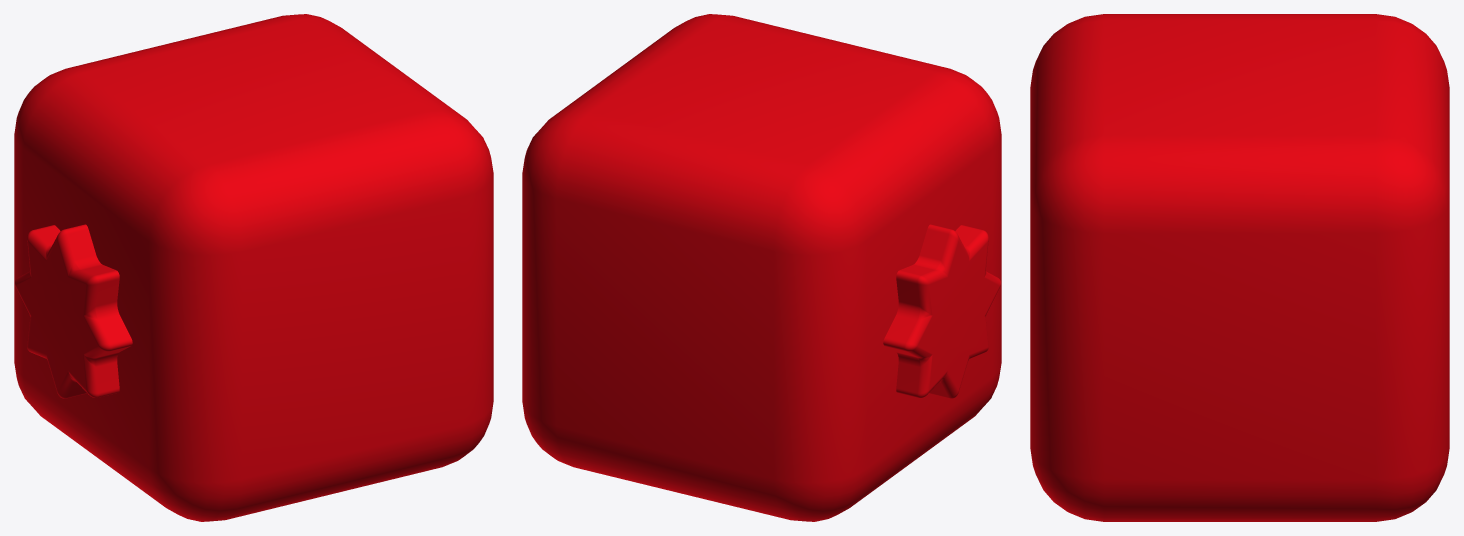
3 renders of one model, left to right at view 1: azimuth 30°, elevation 25°; view 2: azimuth 150°, elevation 25°; view 3: azimuth 270°, elevation 25°, orthographic. The views are drawn at different scales.
Parts seen in each view (by area): view 1: Cube; view 2: Cube; view 3: Cube.
Part boxes in pixels (x1=…): Cube: x1=14, y1=14, x2=493, y2=521; Cube: x1=522, y1=14, x2=1001, y2=521; Cube: x1=1030, y1=14, x2=1449, y2=521.
Size of the model in its own units: 109 by 100 by 100.
